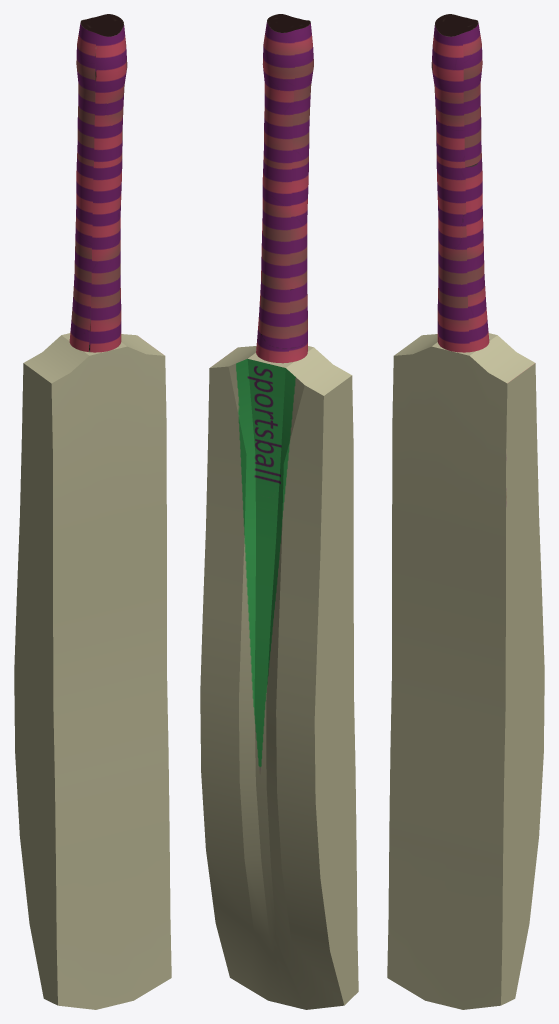
The model's file is cricket_bat_3.fbx.
3 renders of one model, left to right at view 1: azimuth 30°, elevation 25°; view 2: azimuth 150°, elevation 25°; view 3: azimuth 330°, elevation 25°, orthographic.
Parts seen in each view (by area): view 1: bat_3; view 2: bat_3; view 3: bat_3.
Boxes of the visible parts, <box> form: bat_3: <box>14,14,171,1009</box>; bat_3: <box>200,14,358,1009</box>; bat_3: <box>387,14,544,1009</box>.
Bounding box in the file's own units: 11.2 × 92 × 7.47.
